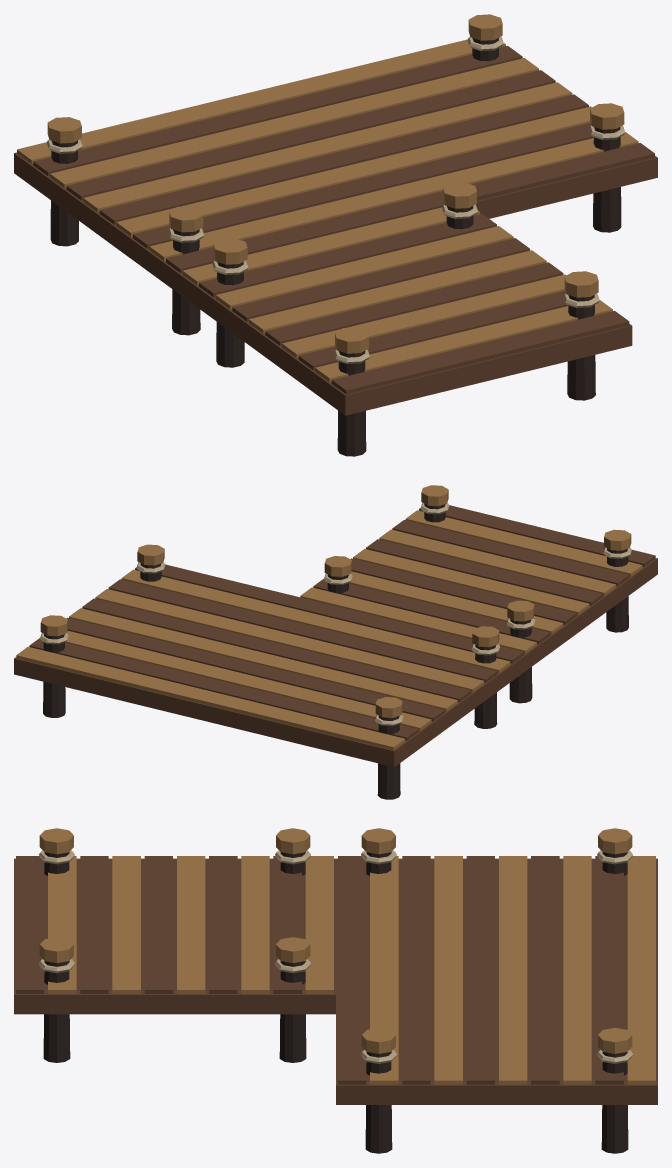
The model's file is PirateCove_DockCorner_Showcase.glb.
The picture shows the model from 3 angles, top to bottom: view 1: azimuth 30°, elevation 25°; view 2: azimuth 150°, elevation 25°; view 3: azimuth 270°, elevation 25°; orthographic projection. The views are drawn at different scales.
Visible parts, largest first — view 1: PirateCove_DockCorner_Showcase; view 2: PirateCove_DockCorner_Showcase; view 3: PirateCove_DockCorner_Showcase.
Part boxes in pixels (x1,y1,x2,y2): PirateCove_DockCorner_Showcase: [14, 14, 657, 456]; PirateCove_DockCorner_Showcase: [14, 485, 657, 799]; PirateCove_DockCorner_Showcase: [14, 828, 657, 1153].
Size of the model in its own units: 5 by 1.16 by 6.
